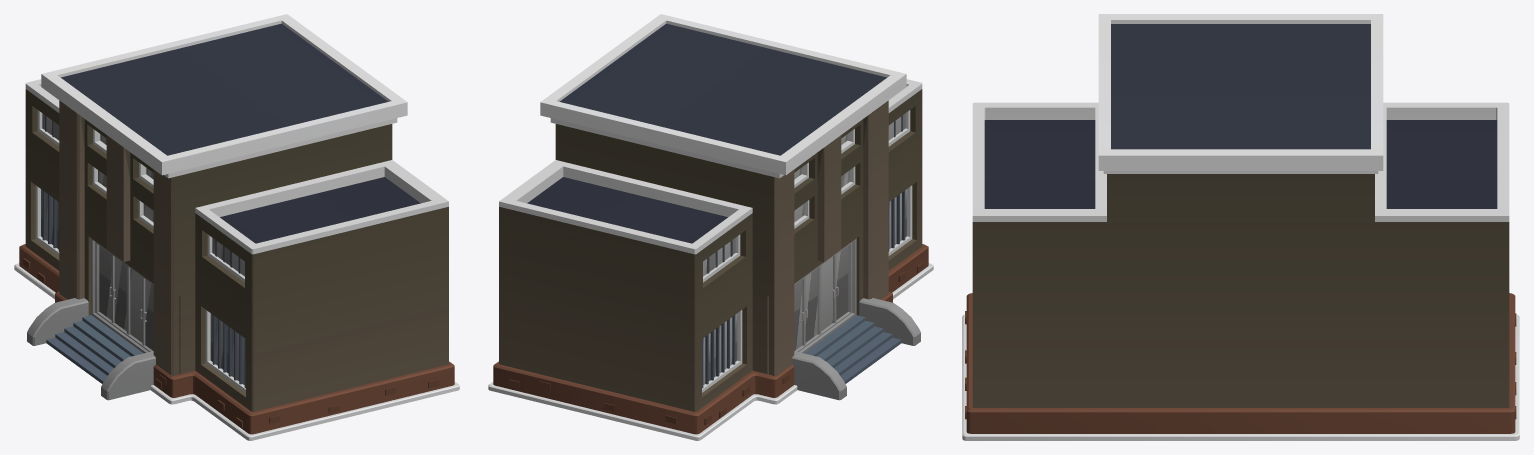
Rendered from Building_14_A.glb.
The picture shows the model from 3 angles, left to right: view 1: azimuth 30°, elevation 25°; view 2: azimuth 150°, elevation 25°; view 3: azimuth 270°, elevation 25°; orthographic projection. The views are drawn at different scales.
Visible parts, largest first — view 1: Building_14_A; view 2: Building_14_A; view 3: Building_14_A.
Boxes of the visible parts, left/top/right/bottom form: Building_14_A: left=14, top=14, right=459, bottom=440; Building_14_A: left=488, top=14, right=933, bottom=440; Building_14_A: left=962, top=14, right=1519, bottom=440.
Bounding box in the file's own units: 9.08 × 7.55 × 13.25.
Materials: 4 (4 with a texture image).
